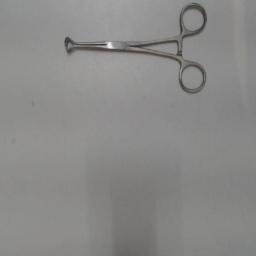Babcock Tissue Forceps: (60, 0, 210, 98)
